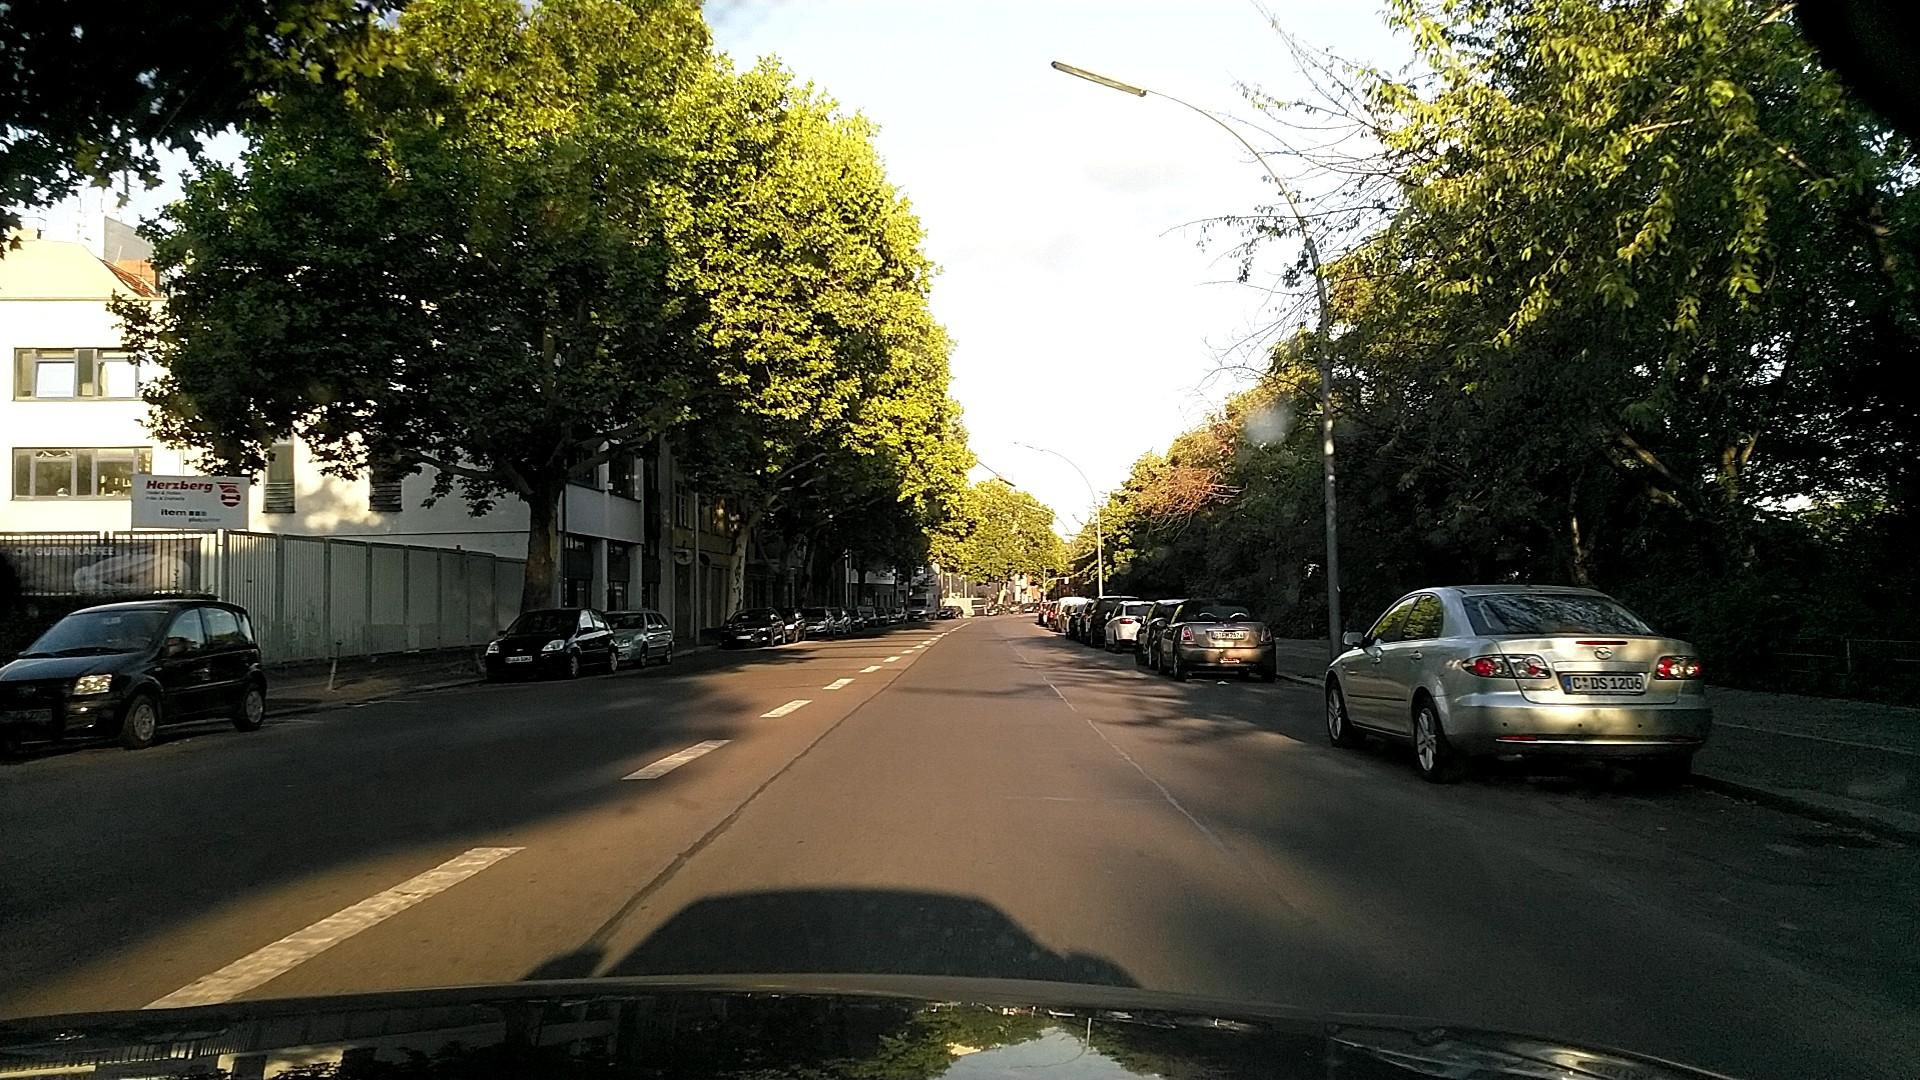Vehicle registration plate: (1562, 674, 1645, 695), (2, 709, 50, 725), (1211, 631, 1244, 640), (503, 656, 533, 663)
